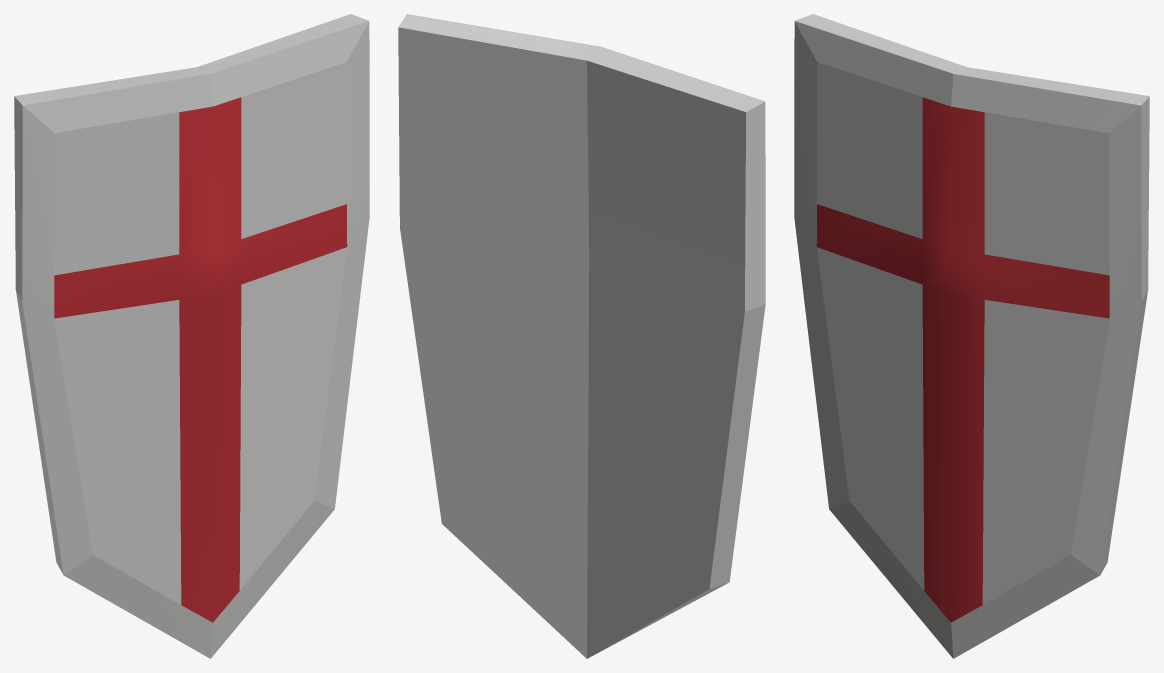
The model's file is medieval_shield-medieval.fbx.
The picture shows the model from 3 angles, left to right: view 1: azimuth 30°, elevation 25°; view 2: azimuth 150°, elevation 25°; view 3: azimuth 330°, elevation 25°; orthographic projection. The views are drawn at different scales.
Parts seen in each view (by area): view 1: medieval_shield_medieval; view 2: medieval_shield_medieval; view 3: medieval_shield_medieval.
Part boxes in pixels (x1,y1,x2,y2): medieval_shield_medieval: (14, 14, 369, 658); medieval_shield_medieval: (398, 14, 765, 658); medieval_shield_medieval: (794, 14, 1149, 658).
Size of the model in its own units: 124 by 200 by 23.59.
